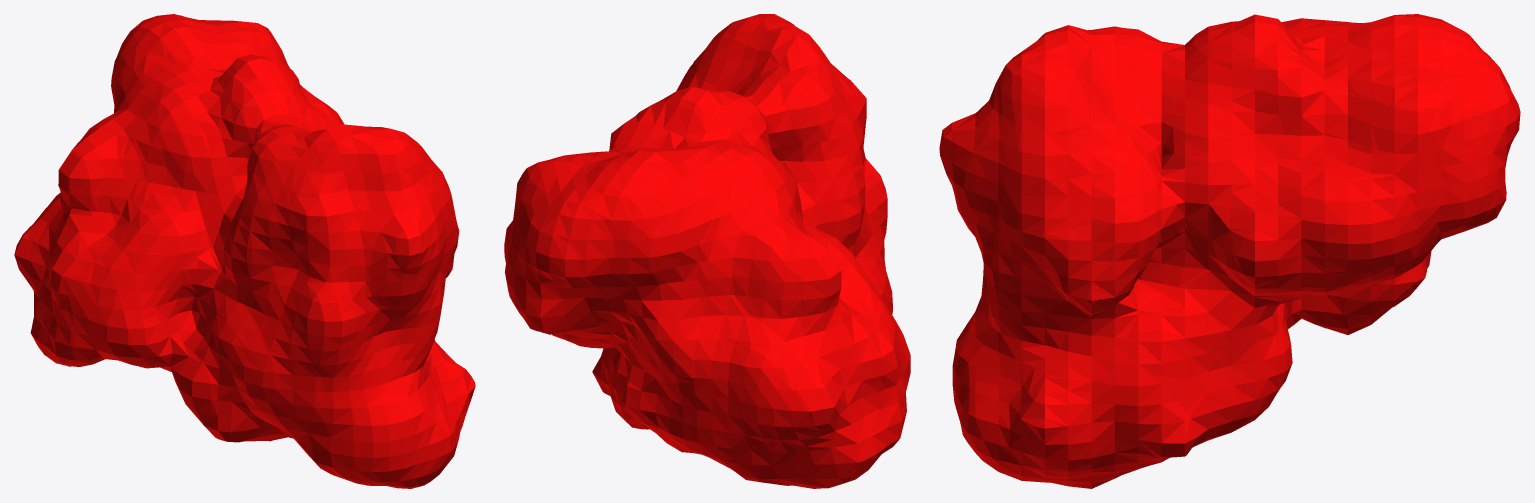
The model's file is ispE_coarse.dae.
3 views of the same model, side by side, from view 1: azimuth 30°, elevation 25°; view 2: azimuth 150°, elevation 25°; view 3: azimuth 270°, elevation 25° (orthographic). The views are drawn at different scales.
Visible parts, largest first — view 1: ispE; view 2: ispE; view 3: ispE.
Part boxes in pixels (left/top/right/bottom): ispE: left=14, top=14, right=475, bottom=488; ispE: left=504, top=14, right=910, bottom=488; ispE: left=939, top=14, right=1520, bottom=488.
Bounding box in the file's own units: 58.68 × 66.37 × 79.12.
